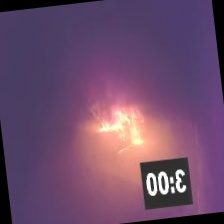fire: (104, 92, 152, 159)
